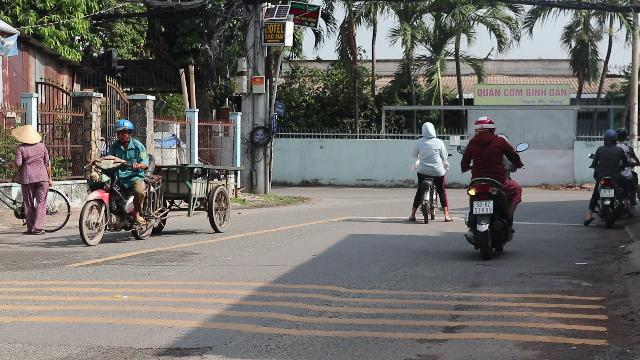helmet: (113, 118, 133, 142), (472, 115, 496, 134), (602, 128, 618, 144), (419, 121, 435, 136)
licenseplate: (473, 201, 492, 213), (600, 190, 614, 198)
motorcyclist: (76, 118, 156, 246), (459, 116, 523, 256), (585, 128, 639, 228)
